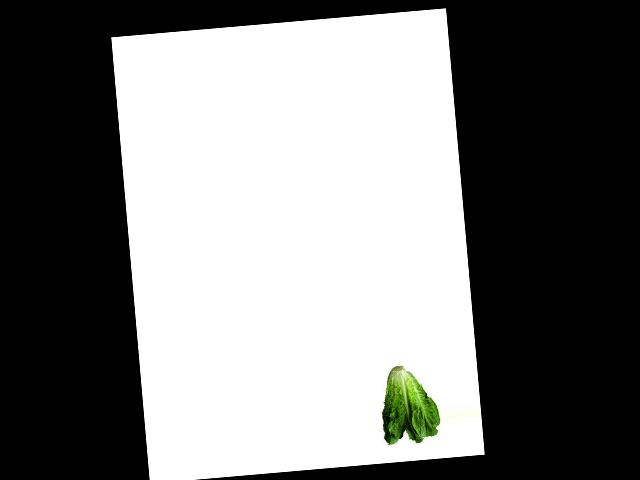lettuce: (376, 360, 441, 445)
